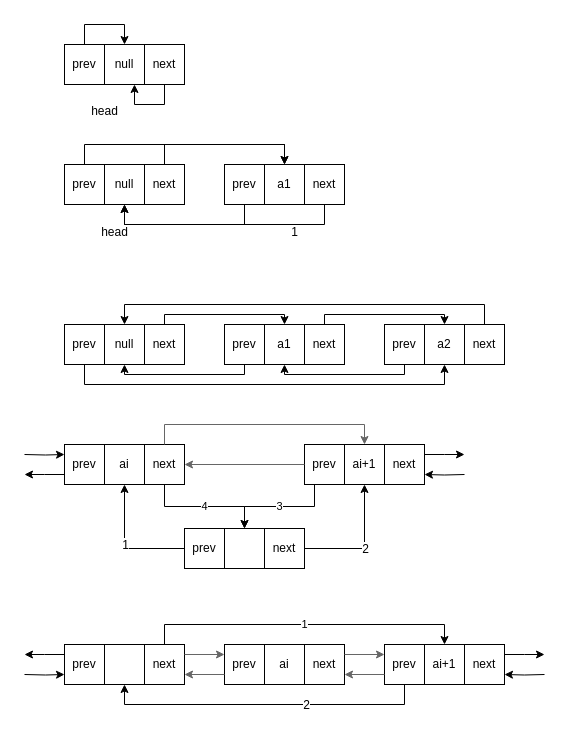
Image size: 570x730. Some labels were removed from this diagram. The box of each missing label's shape, as (x1, y1, x2, y2) in pixels:
ai-1: (104, 644, 144, 684)
node: (224, 528, 264, 568)
